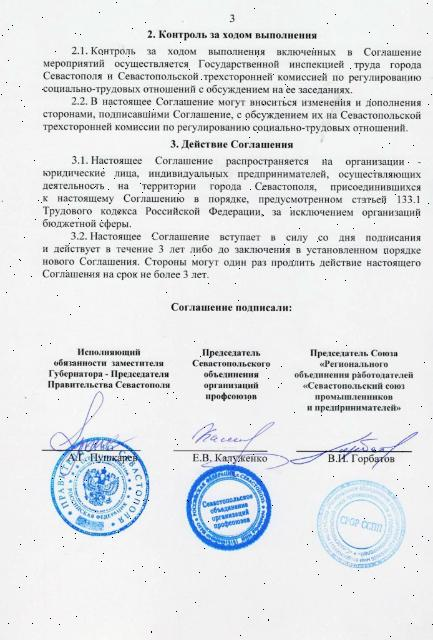stamp: (50, 438, 148, 534), (316, 478, 408, 570), (187, 464, 273, 554)
